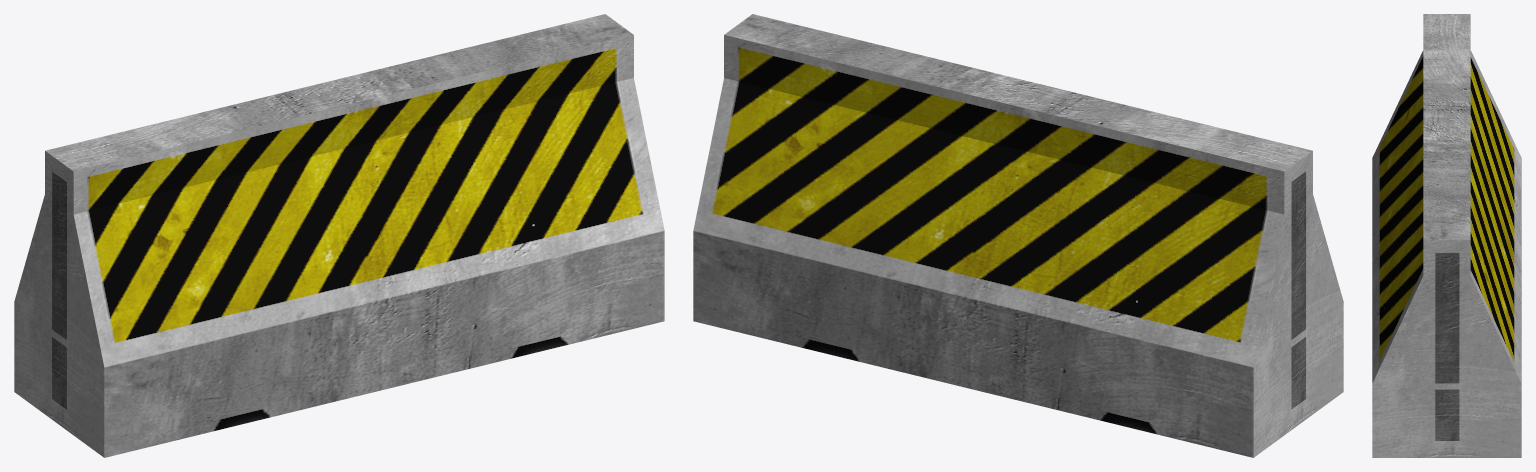
File: Barreira1.FBX
3 views of the same model, side by side, from view 1: azimuth 30°, elevation 25°; view 2: azimuth 150°, elevation 25°; view 3: azimuth 270°, elevation 25° (orthographic). The views are drawn at different scales.
Parts seen in each view (by area): view 1: Barreira01; view 2: Barreira01; view 3: Barreira01.
Part boxes in pixels (box(x1,y1,x2,y2)): Barreira01: box(14, 14, 664, 457); Barreira01: box(693, 14, 1343, 457); Barreira01: box(1372, 14, 1521, 457).
Size of the model in its own units: 2 by 0.9 by 0.5574.
1 material, 1 textured.
